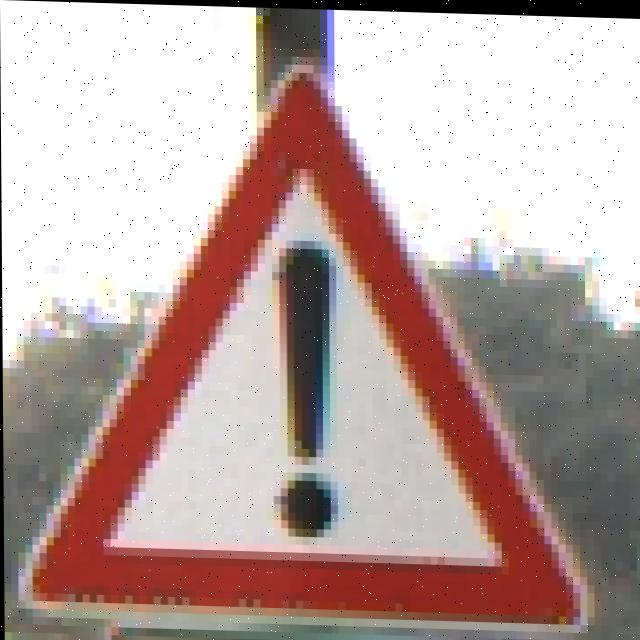warning: (35, 79, 559, 616)
